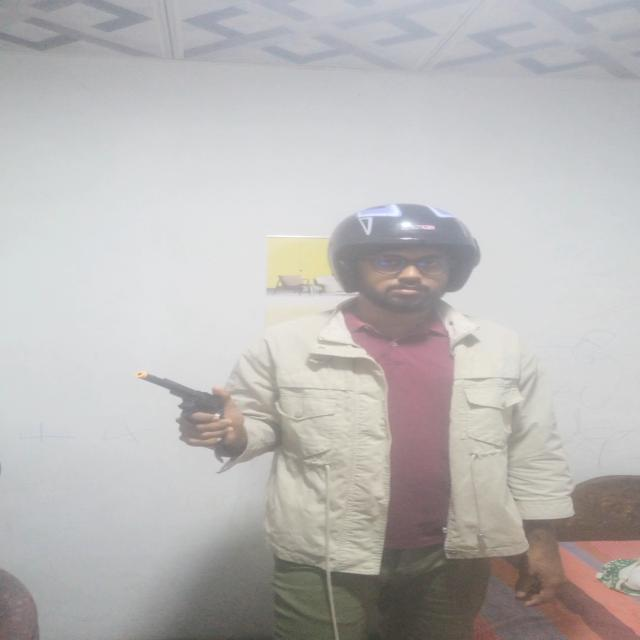Gun_Holder: (132, 368, 240, 437)
Helmet_Wearer: (308, 200, 499, 315)
Jacket_Wearer: (193, 308, 586, 560)
Person: (180, 198, 590, 640)
